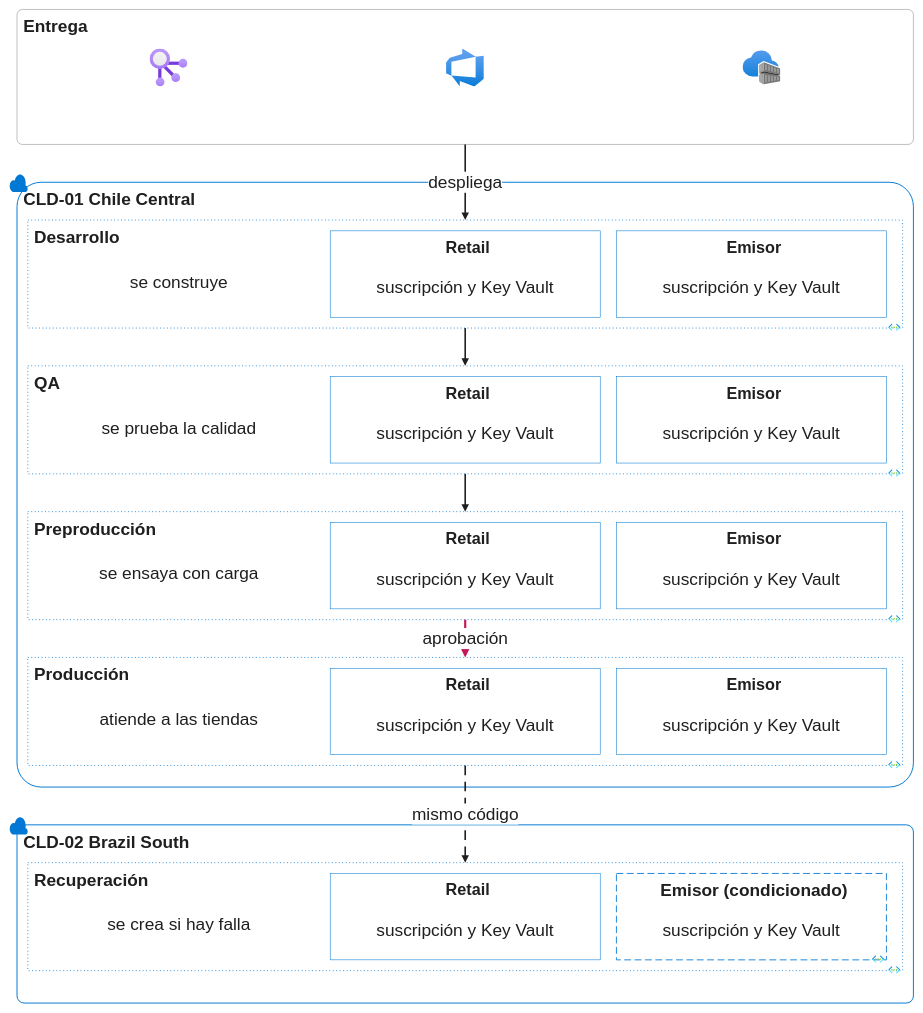
Some shapes in this 923 by 1013 pixel diagram are drawn without their labels. The shapes that lost their labels are listed below. From the top down, each one's centre as x and y in pixels, then its label:
[168,67]: Repositorio del código
[465,67]: Entrega continua (revisión y firma)
[761,67]: Registro de imágenes
